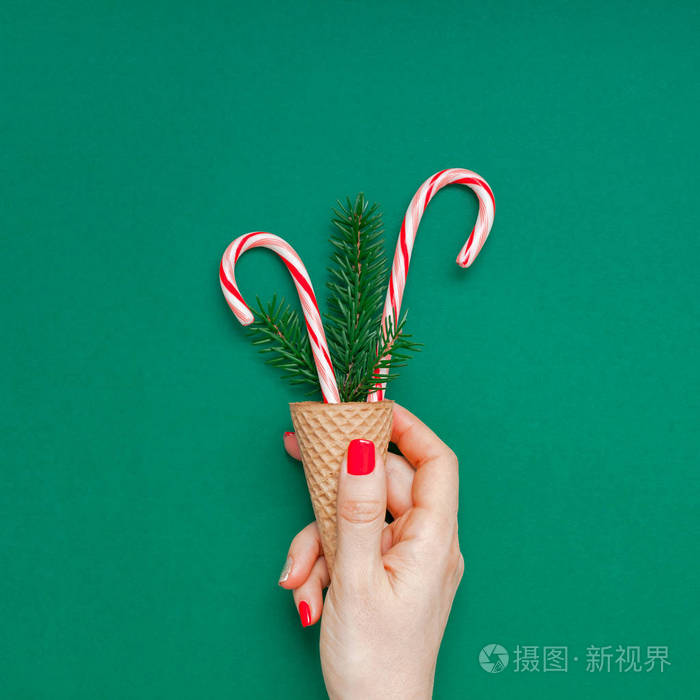no-phone: (267, 248, 470, 693)
